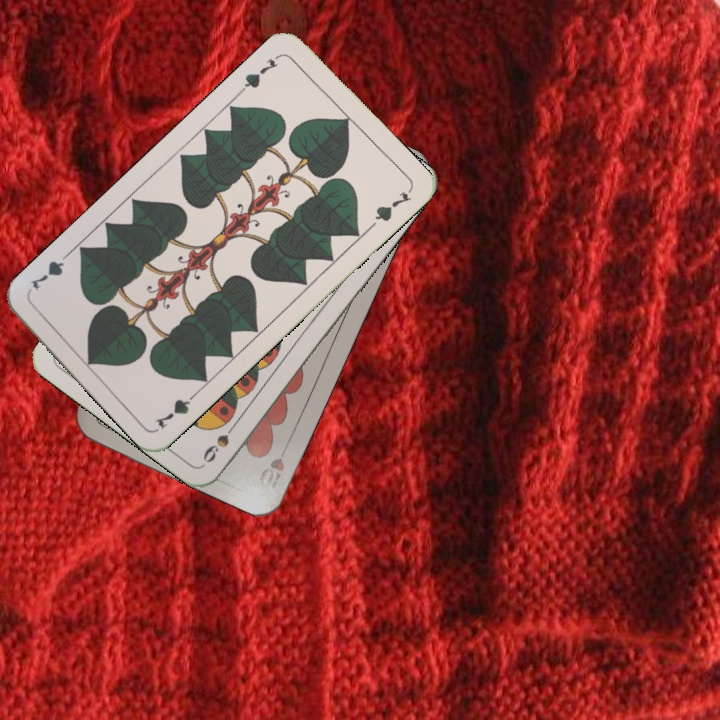G7: (151, 386, 202, 431), (236, 50, 284, 95)
H10: (255, 453, 287, 491)
S9: (198, 416, 242, 466)
